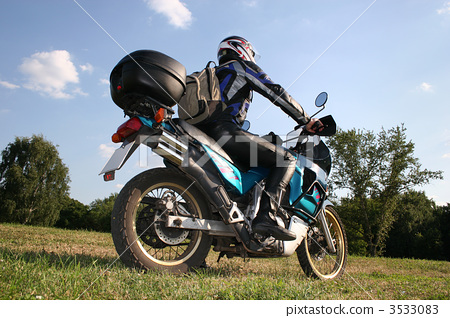helmet: (215, 32, 265, 69)
